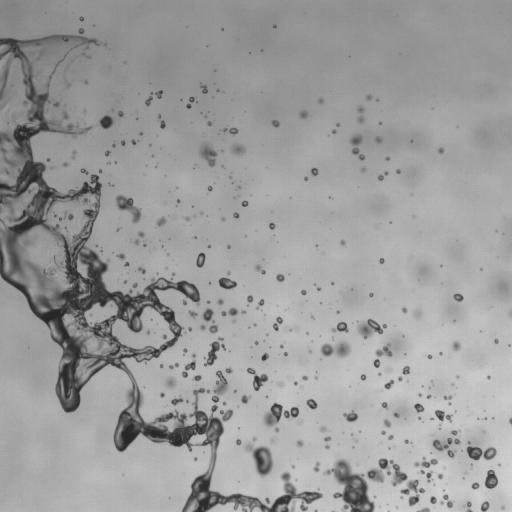droplet: (263, 403, 299, 427), (414, 457, 438, 482), (357, 319, 386, 339), (432, 438, 460, 457), (247, 368, 268, 390), (199, 142, 217, 166), (484, 469, 498, 488), (435, 410, 452, 424), (218, 277, 236, 289), (99, 115, 113, 129), (440, 494, 453, 508), (332, 322, 348, 332), (231, 144, 245, 155), (343, 411, 357, 422), (196, 253, 205, 267), (165, 377, 176, 388), (306, 399, 317, 409), (171, 396, 183, 405), (255, 264, 265, 274), (414, 403, 424, 412), (157, 217, 166, 226), (384, 380, 393, 389), (453, 293, 463, 301), (481, 501, 489, 511), (452, 341, 460, 350), (241, 395, 250, 403), (383, 418, 391, 427), (313, 462, 320, 472), (465, 502, 472, 511), (228, 128, 238, 134), (155, 90, 162, 98), (310, 168, 318, 175), (276, 274, 284, 281), (414, 309, 421, 317), (261, 353, 268, 361), (402, 366, 409, 374), (471, 482, 479, 489), (201, 84, 207, 93), (300, 111, 307, 118), (272, 120, 279, 127), (117, 253, 125, 259), (247, 295, 253, 303), (188, 311, 196, 317), (193, 375, 201, 381), (451, 429, 459, 435), (357, 116, 363, 123), (138, 267, 145, 273), (225, 367, 232, 373), (296, 440, 303, 446), (430, 496, 436, 503), (357, 106, 363, 112), (233, 212, 239, 218), (269, 223, 275, 229), (217, 298, 223, 304), (381, 402, 387, 408), (320, 426, 326, 432), (160, 121, 165, 128), (444, 395, 451, 400), (72, 150, 76, 158), (81, 168, 87, 173), (242, 201, 248, 206), (138, 231, 143, 237), (200, 325, 206, 330), (360, 374, 365, 380), (277, 381, 283, 386), (324, 436, 330, 441), (236, 439, 241, 445), (366, 95, 371, 100), (318, 98, 323, 103), (118, 111, 123, 116), (376, 137, 381, 142), (438, 148, 443, 153), (340, 240, 345, 245), (379, 258, 384, 263), (402, 307, 407, 312), (437, 473, 442, 478), (393, 413, 399, 417), (131, 140, 136, 144), (105, 151, 110, 155), (124, 262, 129, 266), (132, 283, 137, 287), (301, 290, 306, 294), (494, 338, 498, 343), (183, 348, 187, 353), (302, 376, 307, 380), (398, 376, 402, 381), (388, 435, 393, 439), (207, 121, 211, 125), (63, 162, 67, 166), (396, 169, 400, 173), (208, 186, 212, 190), (185, 216, 189, 220), (134, 240, 138, 244), (160, 393, 164, 397), (381, 430, 385, 434), (325, 445, 329, 449), (183, 300, 186, 305), (405, 440, 410, 443), (121, 140, 124, 144), (177, 199, 180, 203), (222, 217, 225, 221), (369, 293, 373, 296), (254, 341, 258, 344), (427, 355, 431, 358), (294, 381, 297, 385), (80, 17, 83, 20), (223, 128, 226, 131), (332, 130, 335, 133), (386, 157, 389, 160), (304, 177, 307, 180), (109, 183, 112, 186), (227, 271, 230, 274), (317, 287, 320, 290), (242, 310, 245, 313), (188, 327, 191, 330), (284, 352, 287, 355), (427, 395, 430, 398), (275, 428, 278, 431), (194, 457, 197, 460), (84, 81, 87, 83), (158, 115, 160, 118), (336, 123, 338, 126), (47, 158, 49, 161), (362, 168, 364, 171), (172, 273, 174, 276), (207, 300, 209, 303), (337, 310, 339, 313), (280, 345, 283, 347), (308, 350, 311, 352), (487, 376, 490, 378), (431, 417, 433, 420), (291, 465, 294, 467), (67, 84, 69, 86), (112, 144, 114, 146), (99, 170, 101, 172), (117, 228, 119, 230), (124, 280, 126, 282), (311, 316, 313, 318), (147, 331, 149, 333), (161, 365, 163, 367), (378, 373, 380, 375), (456, 375, 458, 377), (234, 390, 236, 392), (419, 393, 421, 395), (223, 402, 225, 404), (299, 421, 301, 423), (271, 439, 273, 441), (373, 495, 375, 497), (502, 507, 504, 509)
ligament: (0, 38, 322, 511), (324, 458, 424, 511), (244, 437, 273, 477), (115, 195, 141, 223), (204, 337, 225, 366), (320, 341, 350, 357), (466, 444, 496, 460), (373, 343, 392, 367), (350, 134, 364, 160), (203, 308, 217, 333), (181, 354, 195, 377), (221, 307, 237, 316), (273, 317, 282, 330), (186, 97, 195, 108), (378, 171, 388, 180), (256, 299, 264, 309), (145, 94, 152, 105), (169, 363, 178, 369), (417, 507, 430, 511), (286, 327, 298, 331), (55, 60, 61, 67), (83, 53, 88, 57), (509, 310, 511, 317), (509, 417, 511, 424), (314, 510, 317, 511)
